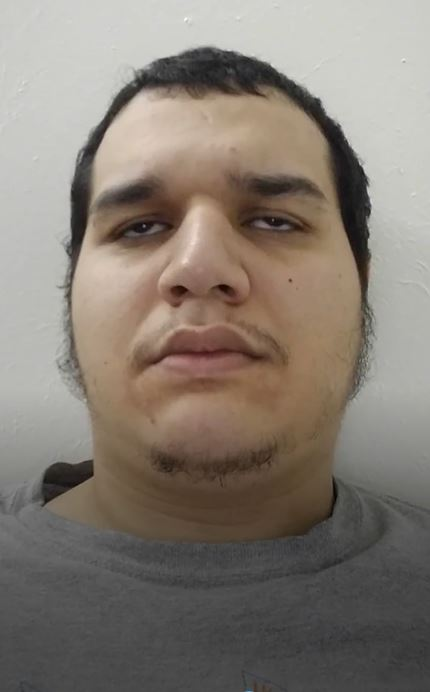Half Asleep: (87, 197, 334, 261)
